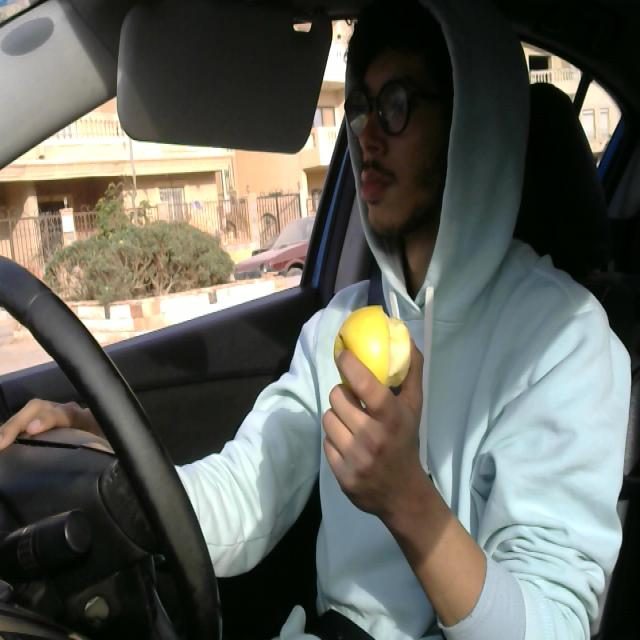eating: (336, 296, 421, 396)
